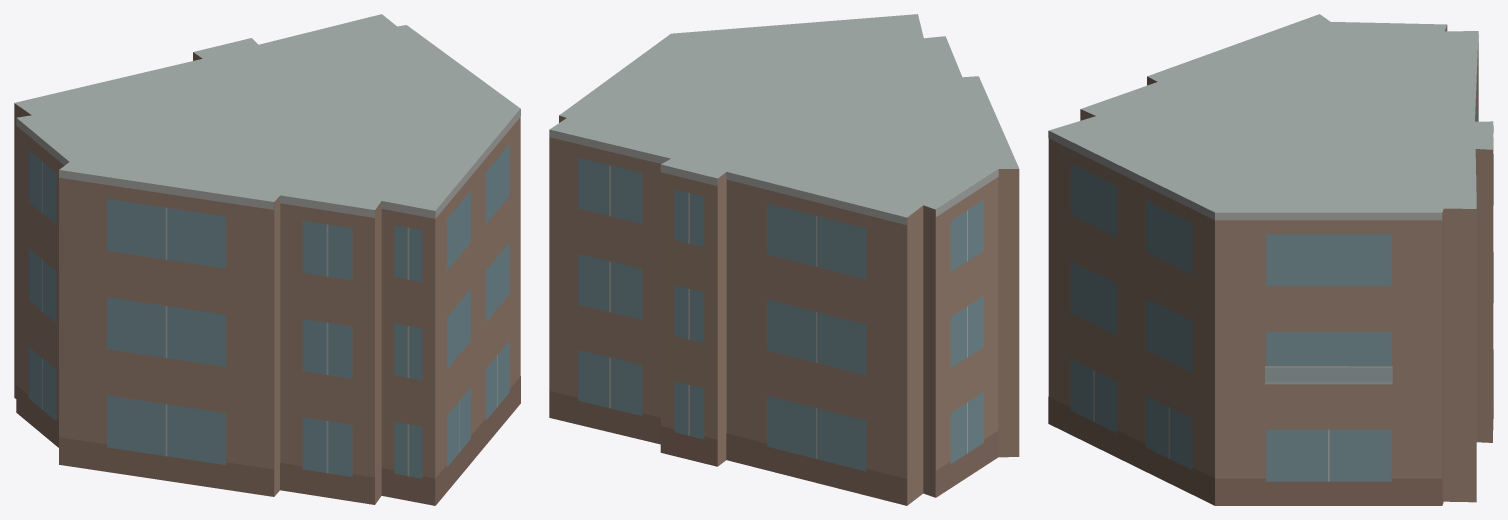
File: survey-upis-32671342.glb
The picture shows the model from 3 angles, left to right: view 1: azimuth 30°, elevation 25°; view 2: azimuth 150°, elevation 25°; view 3: azimuth 270°, elevation 25°; orthographic projection. The views are drawn at different scales.
Parts seen in each view (by area): view 1: survey-upis-32671342.tmp; view 2: survey-upis-32671342.tmp; view 3: survey-upis-32671342.tmp.
Part boxes in pixels (x1=…): survey-upis-32671342.tmp: x1=14, y1=14, x2=520, y2=505; survey-upis-32671342.tmp: x1=549, y1=14, x2=1019, y2=505; survey-upis-32671342.tmp: x1=1048, y1=14, x2=1493, y2=505.
Bounding box in the file's own units: 13.33 × 9.15 × 12.59.
